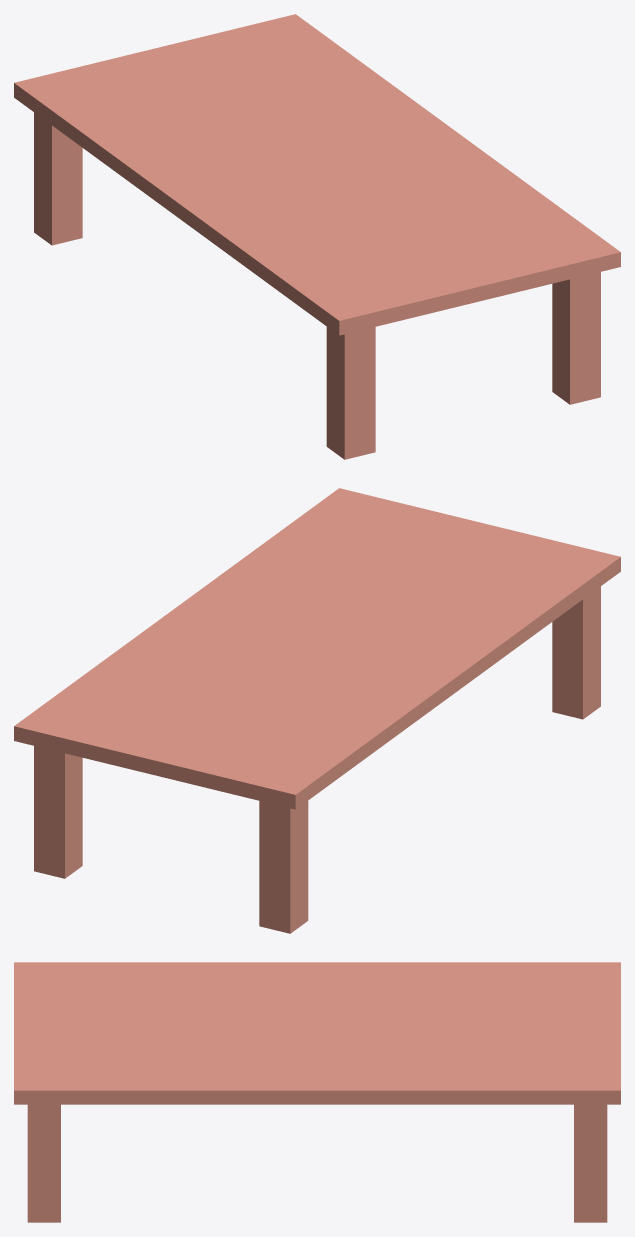
Rendered from table_01_mockup.fbx.
3 views of the same model, one above another, from view 1: azimuth 30°, elevation 25°; view 2: azimuth 150°, elevation 25°; view 3: azimuth 270°, elevation 25° (orthographic). The views are drawn at different scales.
Visible parts, largest first — view 1: Plane.001; view 2: Plane.001; view 3: Plane.001.
Part boxes in pixels (x1=…): Plane.001: x1=14, y1=14, x2=620, y2=459; Plane.001: x1=14, y1=488, x2=620, y2=933; Plane.001: x1=14, y1=962, x2=620, y2=1222.
Bounding box in the file's own units: 1 × 2 × 0.5.
